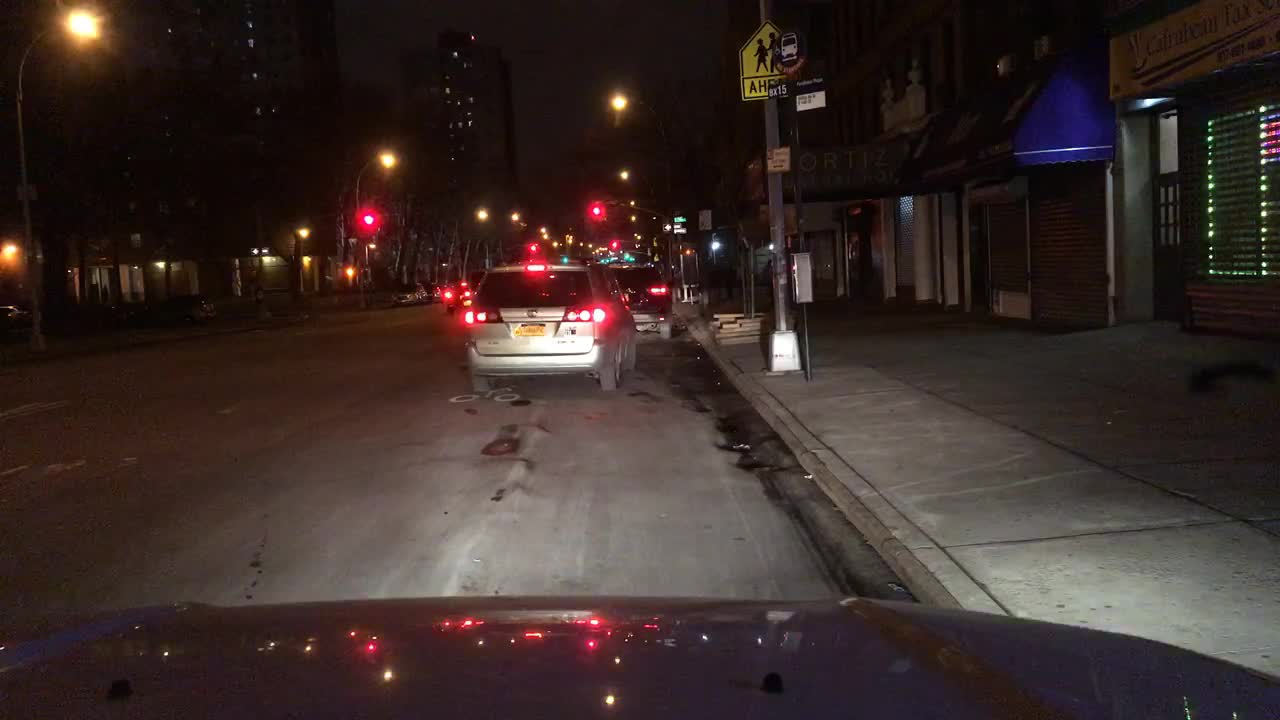car: (462, 260, 636, 391), (610, 263, 675, 336), (156, 296, 217, 329), (83, 301, 152, 326), (442, 274, 482, 313), (0, 304, 41, 338), (386, 283, 427, 304), (421, 283, 440, 299)
traffic light: (361, 210, 373, 230), (591, 202, 600, 218), (611, 239, 618, 249), (531, 243, 536, 254)
traffic sign: (739, 18, 789, 99), (767, 79, 830, 118), (774, 32, 808, 74), (696, 212, 714, 230), (663, 223, 681, 230), (672, 215, 688, 222), (675, 228, 686, 234)
